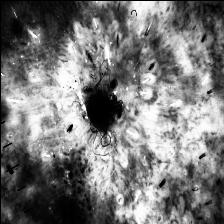Potentially Malignant Skin Tumors: (72, 73, 126, 134)
